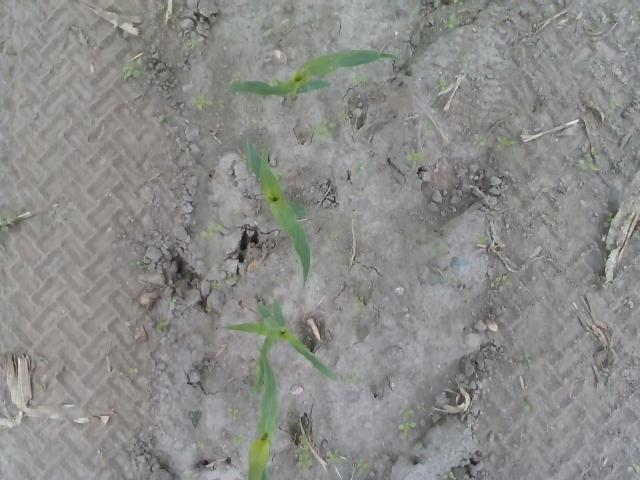Maize: (216, 299, 339, 396), (242, 136, 312, 286), (227, 49, 399, 98), (246, 346, 280, 480)
Weeds: (396, 400, 425, 431), (296, 433, 314, 468), (574, 147, 598, 171), (446, 0, 464, 31), (314, 116, 336, 138), (488, 270, 511, 290), (402, 150, 426, 168), (198, 221, 220, 240), (432, 236, 450, 257), (0, 208, 18, 228), (494, 134, 513, 152), (120, 63, 140, 80), (350, 73, 371, 88), (327, 448, 344, 465), (344, 367, 360, 385), (356, 457, 368, 478), (472, 132, 489, 146), (477, 231, 493, 245), (193, 94, 207, 110), (624, 461, 640, 475), (234, 432, 248, 448), (422, 118, 434, 136), (521, 352, 533, 370), (354, 160, 364, 177), (227, 407, 240, 420), (186, 38, 200, 50), (627, 14, 640, 26), (609, 96, 620, 110), (158, 318, 170, 330), (438, 79, 449, 91), (354, 294, 366, 305), (338, 112, 350, 122), (328, 231, 338, 243), (166, 295, 177, 305), (519, 399, 530, 409), (210, 281, 220, 291), (231, 72, 241, 80), (205, 304, 212, 314), (197, 440, 204, 449)
